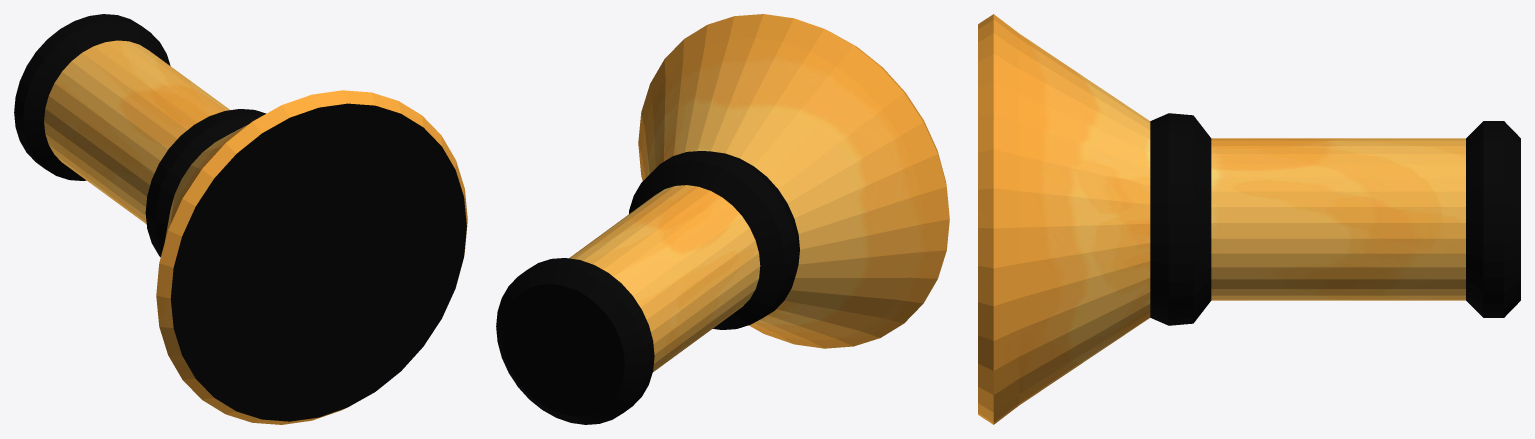
The model's file is mangueira.glb.
3 views of the same model, side by side, from view 1: azimuth 30°, elevation 25°; view 2: azimuth 150°, elevation 25°; view 3: azimuth 270°, elevation 25° (orthographic). The views are drawn at different scales.
Parts seen in each view (by area): view 1: Círculo; view 2: Círculo; view 3: Círculo.
Part boxes in pixels (left/top/right/bottom): Círculo: left=14, top=14, right=467, bottom=424; Círculo: left=496, top=14, right=949, bottom=424; Círculo: left=978, top=14, right=1520, bottom=424.
Size of the model in its own units: 2.1 by 2.1 by 2.78.
3 materials, 1 textured.
